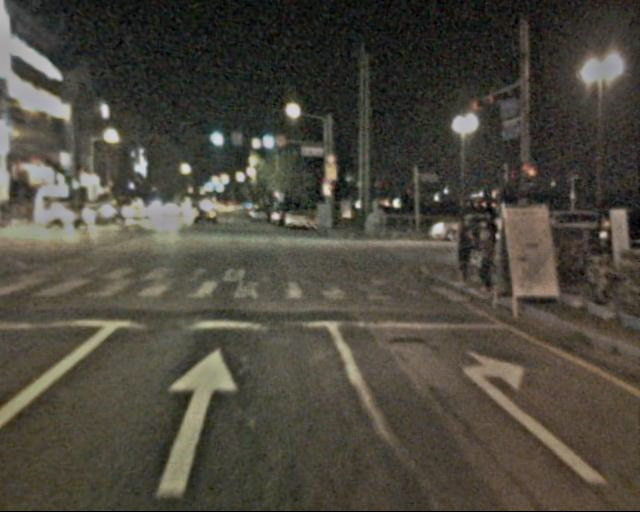person: (447, 211, 477, 286), (474, 219, 502, 299)
